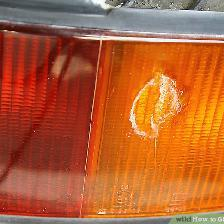tail_lamp: (1, 16, 224, 220)
